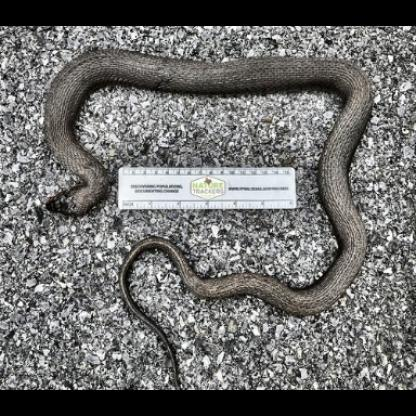Snake: (33, 41, 380, 353)
